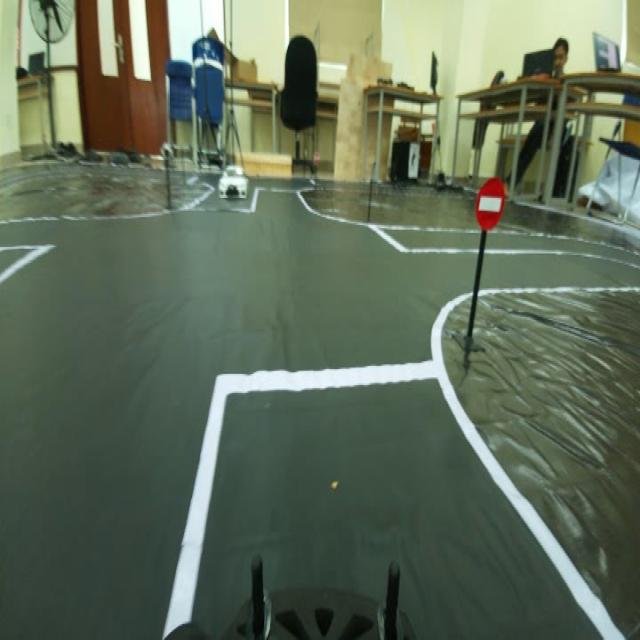no_entry: (469, 170, 507, 239)
